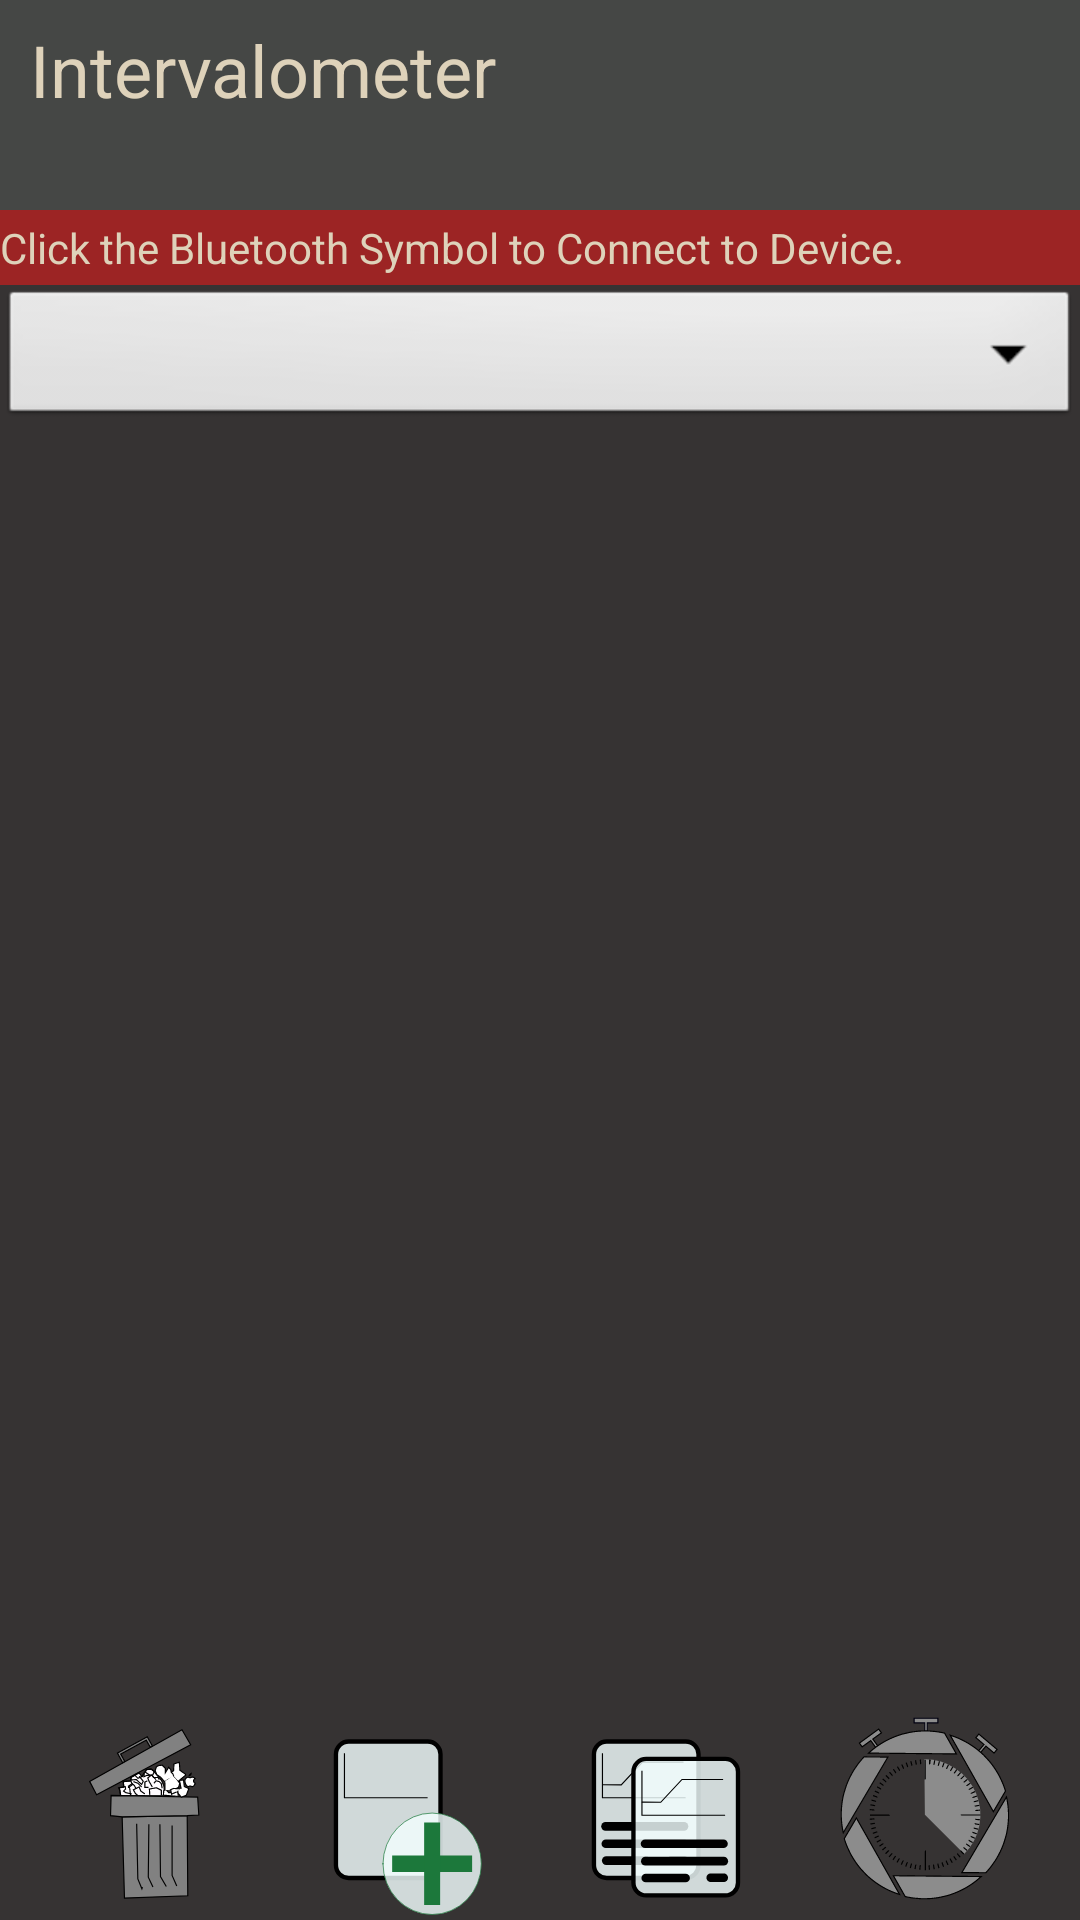

Point at icon controls on the screen. Image size 1080px x 1920px, points as (x=x, y=y).
bin: (x=144, y=1814)
start intervalometer: (x=925, y=1808)
template: (x=408, y=1827), (x=666, y=1818)
